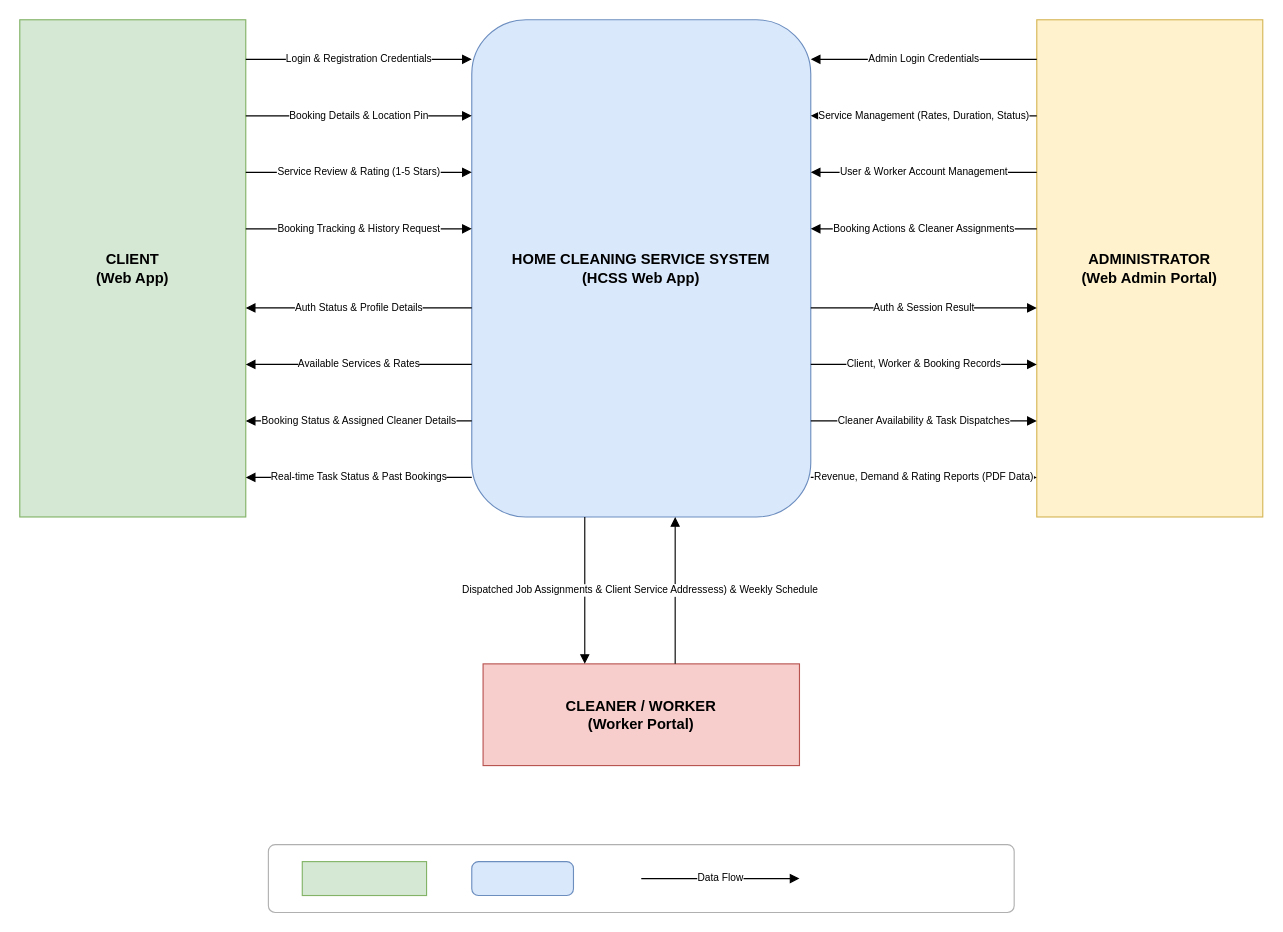
This 1283x932 diagram has some shape labels left out. Each missing label, with the box of its shape:
External Entity: (301, 860, 427, 896)
Process: (471, 860, 573, 896)
